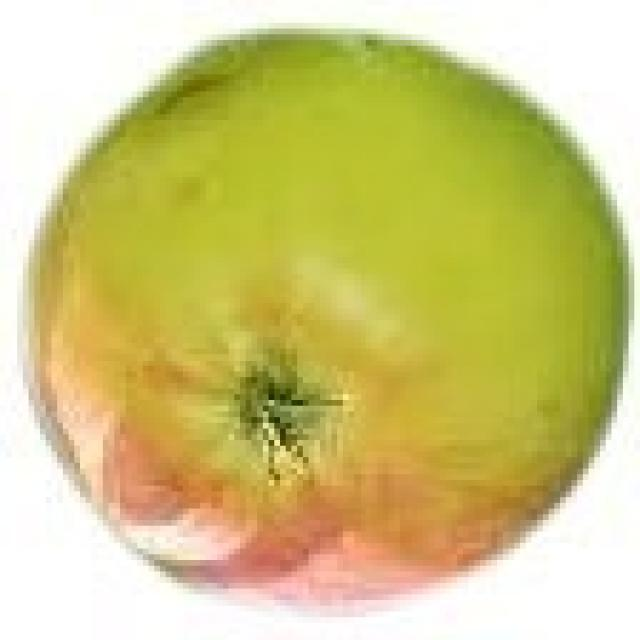75-_ripeness: (28, 27, 623, 606)
